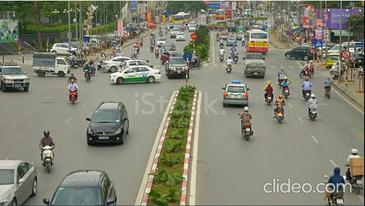car: (43, 166, 130, 206), (82, 100, 133, 153), (0, 153, 43, 206), (107, 61, 166, 87), (0, 60, 34, 98), (219, 80, 252, 112), (162, 54, 195, 82)
motorcycle: (321, 171, 348, 206), (347, 163, 365, 196), (238, 116, 257, 144), (39, 138, 54, 168), (305, 102, 322, 124), (66, 85, 81, 107), (300, 81, 313, 103), (273, 104, 285, 126), (264, 86, 276, 107), (279, 81, 293, 98), (323, 82, 333, 99), (81, 67, 92, 82), (225, 61, 235, 75)
truck: (28, 50, 75, 78), (241, 50, 268, 82)
